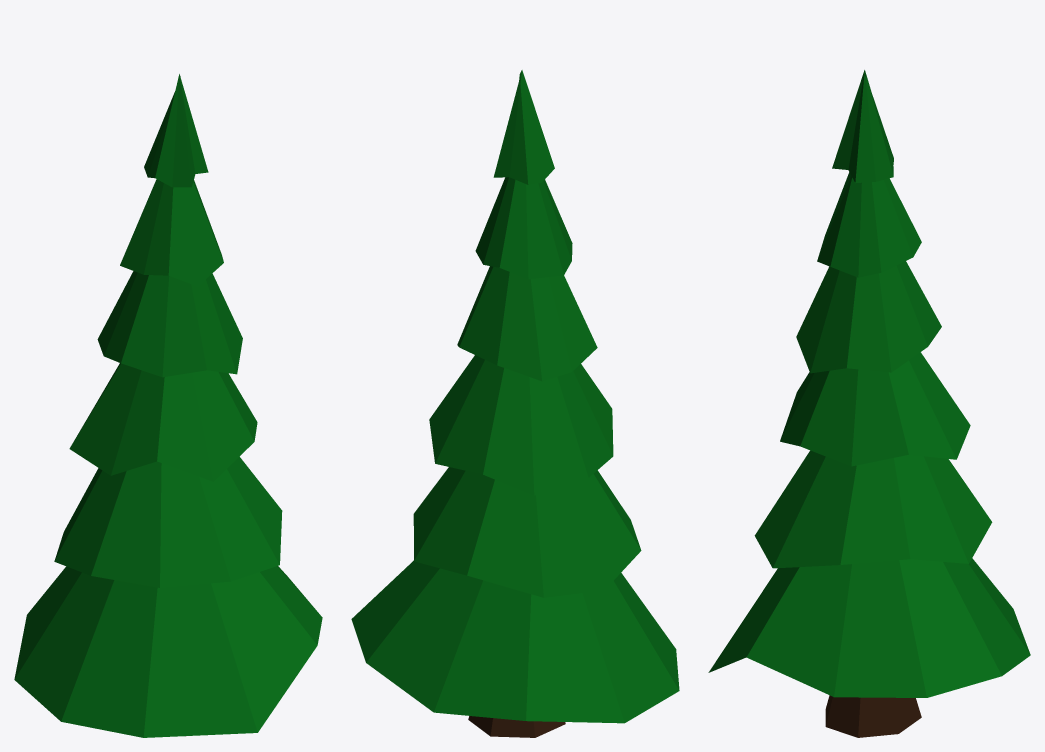
File: elka.fbx
3 views of the same model, side by side, from view 1: azimuth 30°, elevation 25°; view 2: azimuth 150°, elevation 25°; view 3: azimuth 270°, elevation 25° (orthographic).
Visible parts, largest first — view 1: Cylinder; view 2: Cylinder; view 3: Cylinder.
Boxes of the visible parts, x1,y1,x2,y2 form: Cylinder: [14, 74, 322, 737]; Cylinder: [351, 70, 679, 737]; Cylinder: [708, 70, 1030, 737].
Size of the model in its own units: 619 by 1500 by 624.
